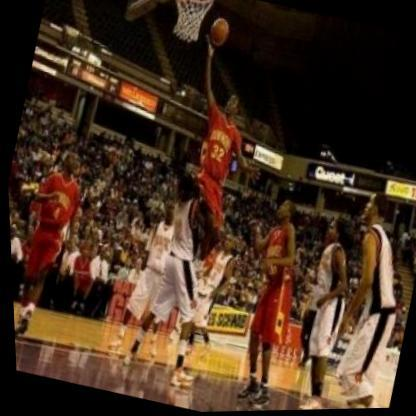basketball: (200, 7, 240, 56)
